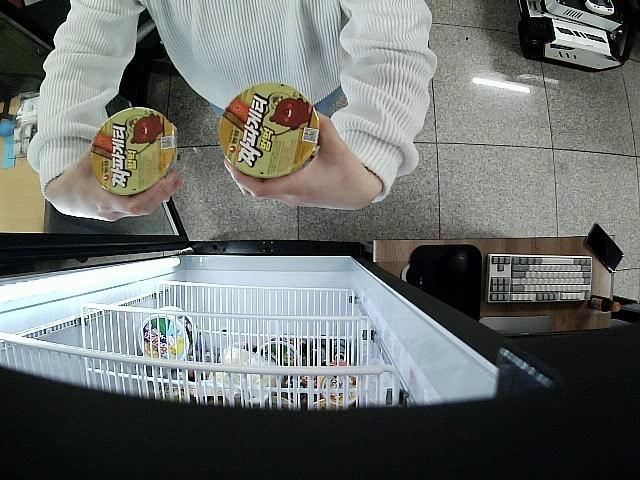04_chapagetti_S: (218, 80, 320, 180), (90, 108, 178, 194)
